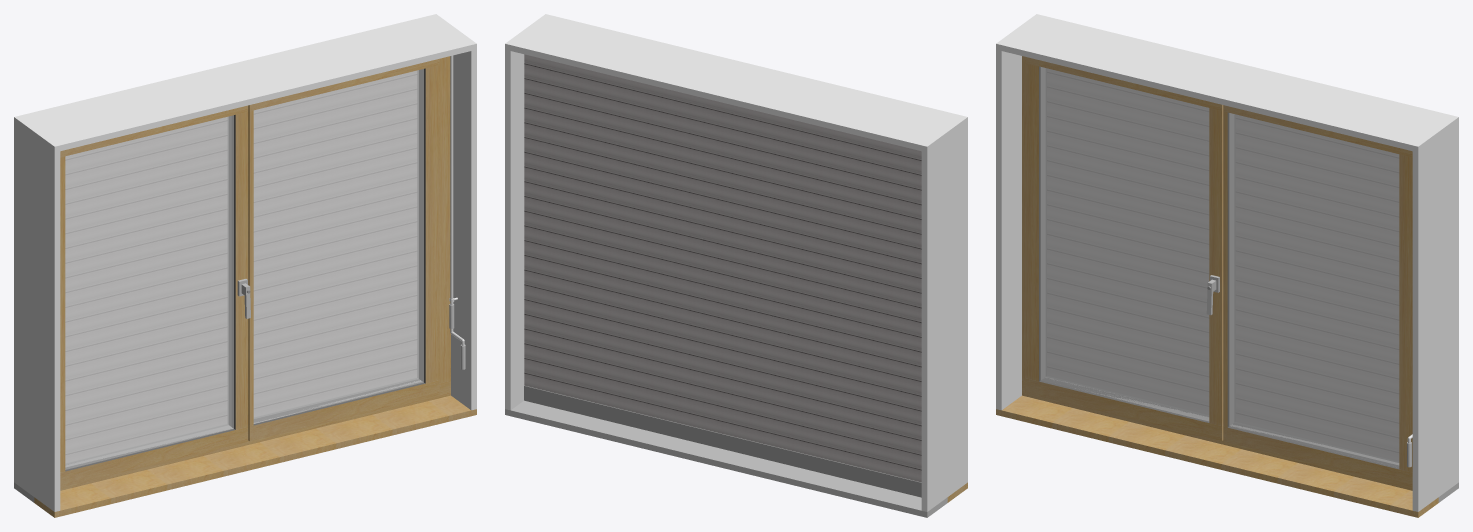
Rendered from double_window.glb.
3 views of the same model, side by side, from view 1: azimuth 30°, elevation 25°; view 2: azimuth 150°, elevation 25°; view 3: azimuth 330°, elevation 25° (orthographic).
Visible parts, largest first — view 1: Object_20, Object_19, Object_18, Object_6, Object_11, Object_4, Object_3, Object_2, Object_5, Object_8, Object_7, Object_12; view 2: Object_20, Object_11, Object_6, Object_9, Object_16; view 3: Object_20, Object_19, Object_18, Object_6, Object_11, Object_2, Object_4, Object_3, Object_8, Object_7, Object_5.
Boxes of the visible parts, x1,y1,x2,y2 form: Object_20: (65, 71, 416, 462); Object_19: (253, 69, 423, 423); Object_18: (65, 115, 233, 469); Object_6: (34, 29, 476, 511); Object_11: (14, 14, 456, 496); Object_4: (34, 395, 476, 517); Object_3: (248, 59, 439, 441); Object_2: (60, 105, 248, 487); Object_5: (60, 56, 450, 490); Object_8: (253, 68, 425, 425); Object_7: (65, 115, 235, 471); Object_12: (450, 55, 464, 345); Object_20: (524, 54, 921, 482); Object_11: (505, 29, 947, 511); Object_6: (525, 14, 967, 496); Object_9: (505, 400, 947, 517); Object_16: (524, 385, 921, 497); Object_20: (1047, 69, 1398, 460); Object_19: (1229, 113, 1399, 467); Object_18: (1040, 67, 1209, 421); Object_6: (996, 29, 1438, 511); Object_11: (1016, 14, 1458, 496); Object_2: (1025, 56, 1223, 440); Object_4: (996, 395, 1438, 517); Object_3: (1223, 105, 1412, 487); Object_8: (1227, 112, 1399, 469); Object_7: (1039, 66, 1209, 422); Object_5: (1022, 56, 1412, 490).
Size of the model in its own units: 150 by 126 by 25.
Materials: 22 (5 with a texture image).
